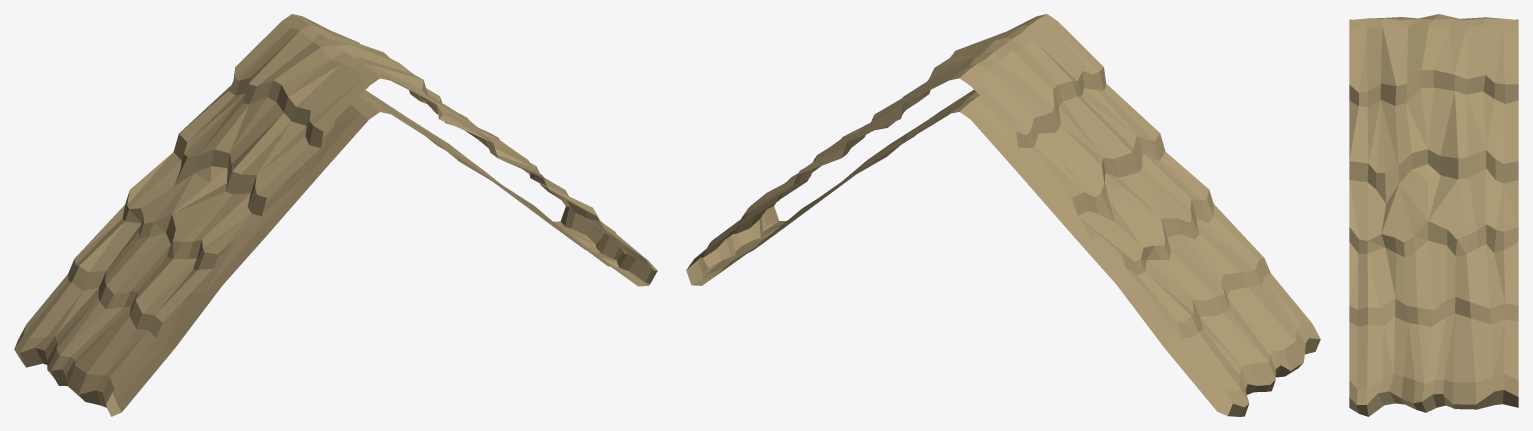
Rendered from rpgpp_ag_roof_02a_9x4x3.fbx.
3 views of the same model, side by side, from view 1: azimuth 30°, elevation 25°; view 2: azimuth 150°, elevation 25°; view 3: azimuth 270°, elevation 25° (orthographic). The views are drawn at different scales.
Parts seen in each view (by area): view 1: rpgpp_ag_roof_02a_9x4x3; view 2: rpgpp_ag_roof_02a_9x4x3; view 3: rpgpp_ag_roof_02a_9x4x3.
Boxes of the visible parts, left/top/right/bottom form: rpgpp_ag_roof_02a_9x4x3: left=14, top=14, right=657, bottom=416; rpgpp_ag_roof_02a_9x4x3: left=686, top=14, right=1320, bottom=416; rpgpp_ag_roof_02a_9x4x3: left=1349, top=14, right=1518, bottom=416.
Bounding box in the file's own units: 11.07 × 5.27 × 3.
